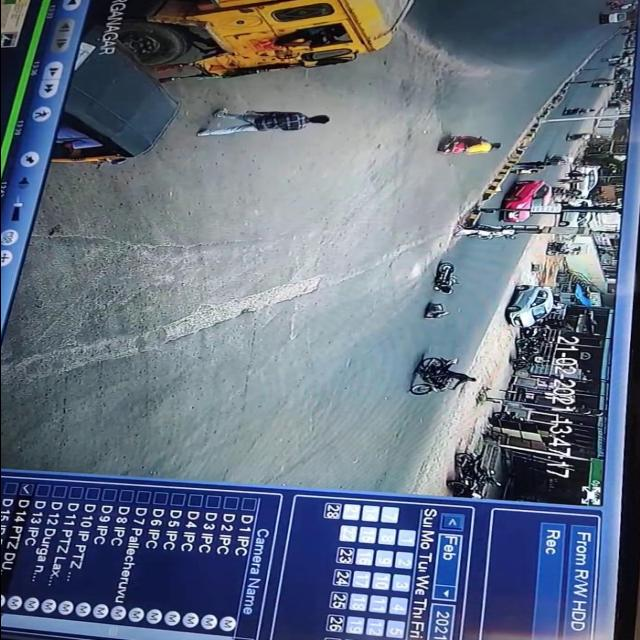accident: (408, 256, 470, 324)
